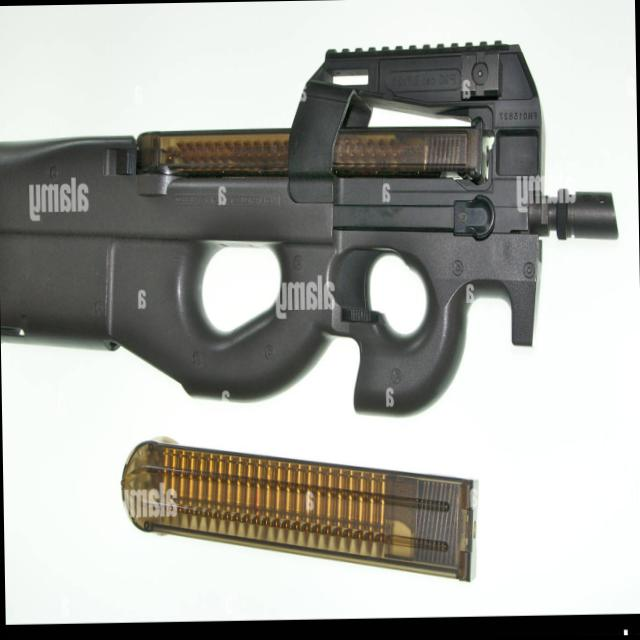Gun: (0, 10, 624, 497)
